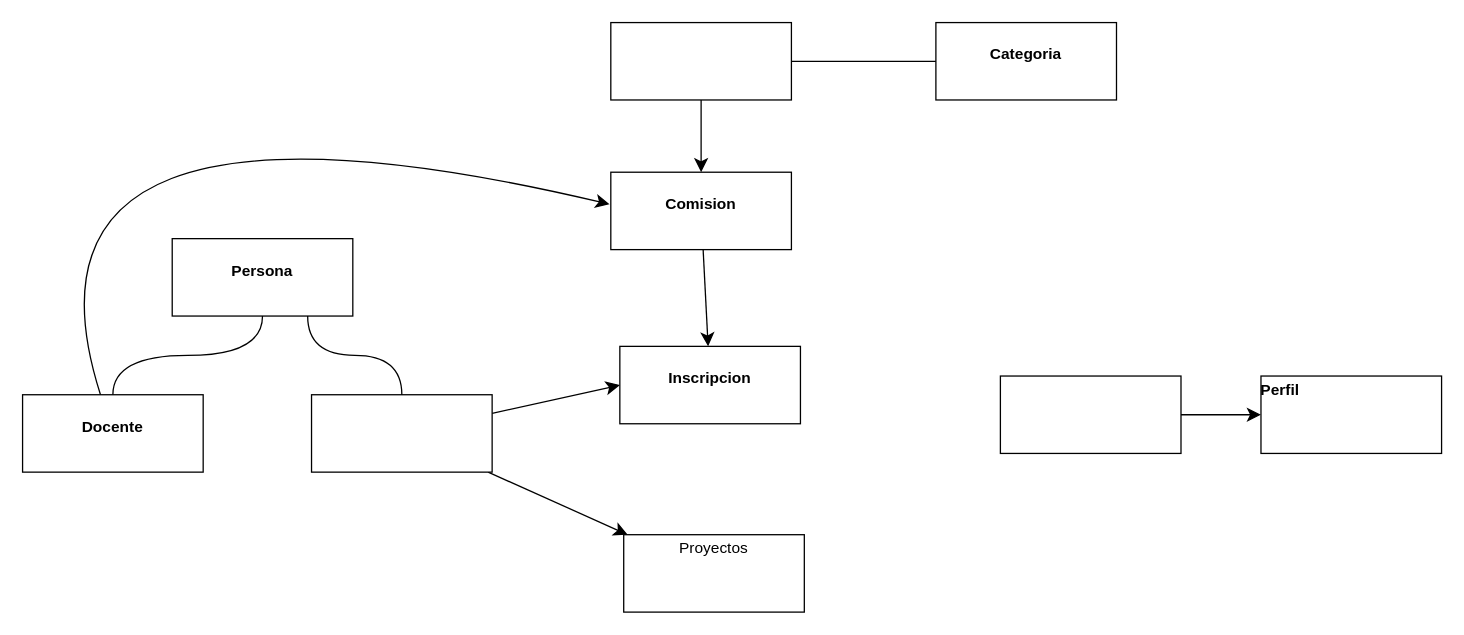
This 1464x635 diagram has some shape labels left out. The box of each missing label's shape, as (x1, y1, x2, y2) in pixels:
Alumno: (310, 393, 492, 472)
Materia/Curso: (610, 21, 791, 100)
Operador/Usuario: (999, 375, 1181, 453)
